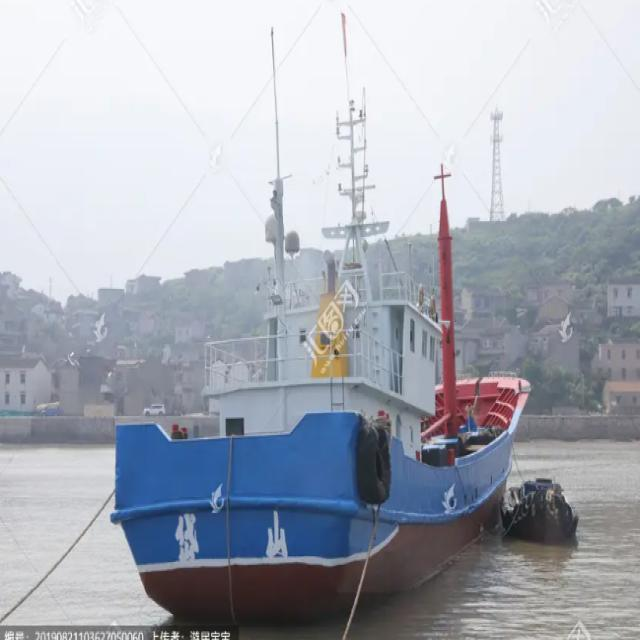fishing boat: (108, 90, 522, 610), (503, 454, 579, 548)
